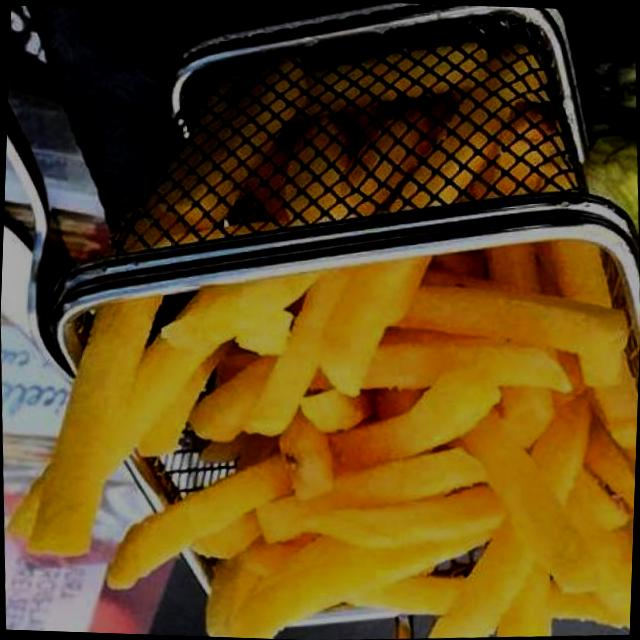French Fries: (4, 228, 640, 640)
